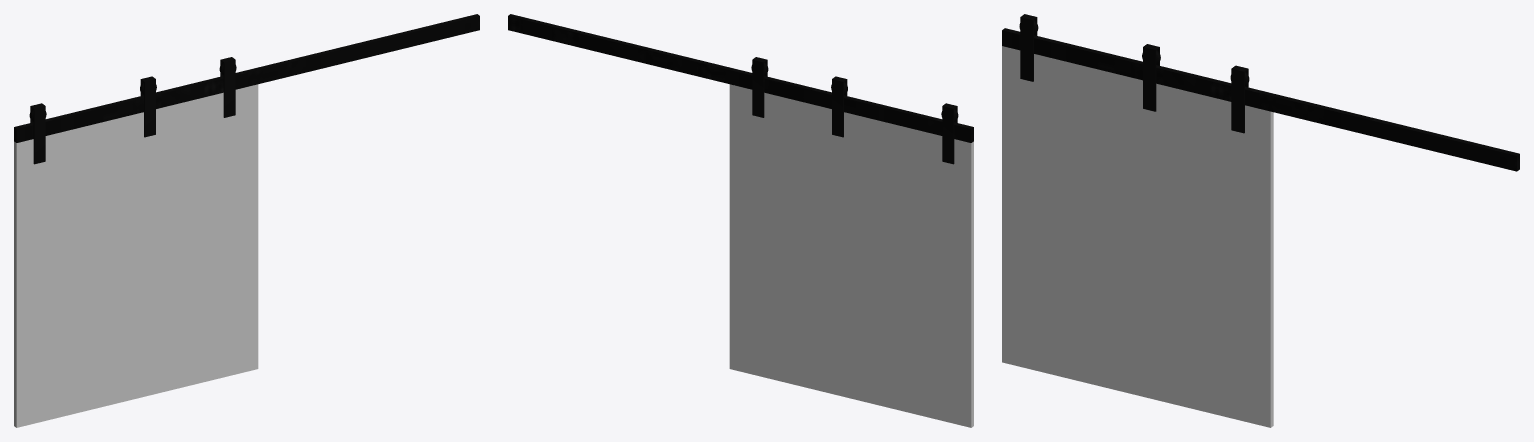
The model's file is barn_door_v1.fbx.
The picture shows the model from 3 angles, left to right: view 1: azimuth 30°, elevation 25°; view 2: azimuth 150°, elevation 25°; view 3: azimuth 330°, elevation 25°; orthographic projection. The views are drawn at different scales.
Visible parts, largest first — view 1: door, door_rail; view 2: door, door_rail; view 3: door, door_rail.
Part boxes in pixels (x1=…): door: x1=14, y1=57, x2=258, y2=427; door_rail: x1=14, y1=14, x2=479, y2=142; door: x1=729, y1=57, x2=973, y2=427; door_rail: x1=508, y1=14, x2=973, y2=142; door: x1=1002, y1=14, x2=1273, y2=427; door_rail: x1=1002, y1=28, x2=1519, y2=171.
Bounding box in the file's own units: 511 × 332 × 7.4.
